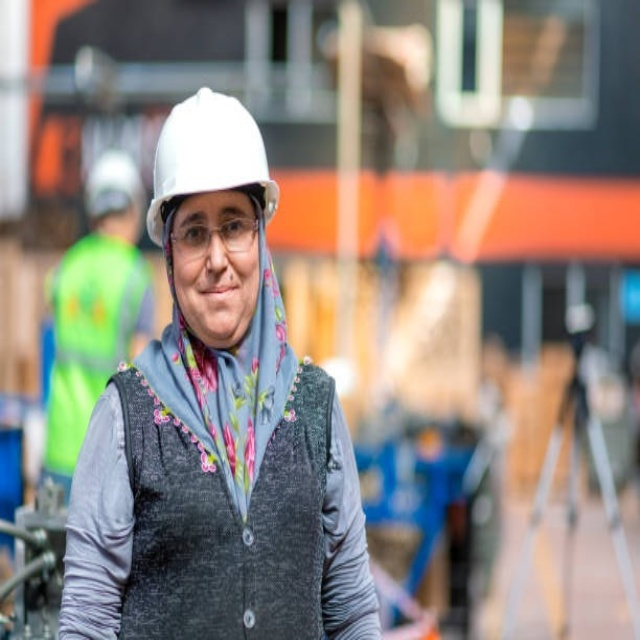Gafas: (168, 216, 261, 258)
Sin_mascara: (192, 276, 243, 328)
